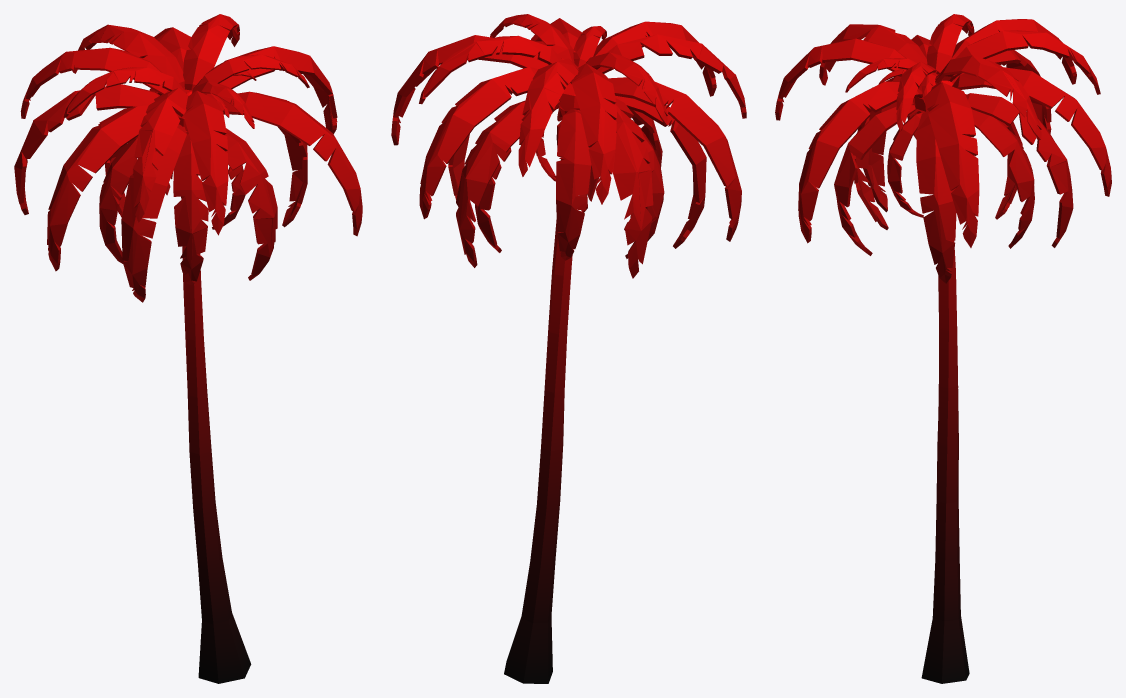
Rendered from TreePalm06.fbx.
3 renders of one model, left to right at view 1: azimuth 30°, elevation 25°; view 2: azimuth 150°, elevation 25°; view 3: azimuth 270°, elevation 25°, orthographic. The views are drawn at different scales.
Visible parts, largest first — view 1: TreePalm06_LOD0; view 2: TreePalm06_LOD0; view 3: TreePalm06_LOD0.
Part boxes in pixels (x1=…): TreePalm06_LOD0: x1=14, y1=14, x2=362, y2=683; TreePalm06_LOD0: x1=391, y1=14, x2=746, y2=683; TreePalm06_LOD0: x1=775, y1=14, x2=1111, y2=683.
Size of what is drawn, in the model's own units: 331 by 642 by 315.
